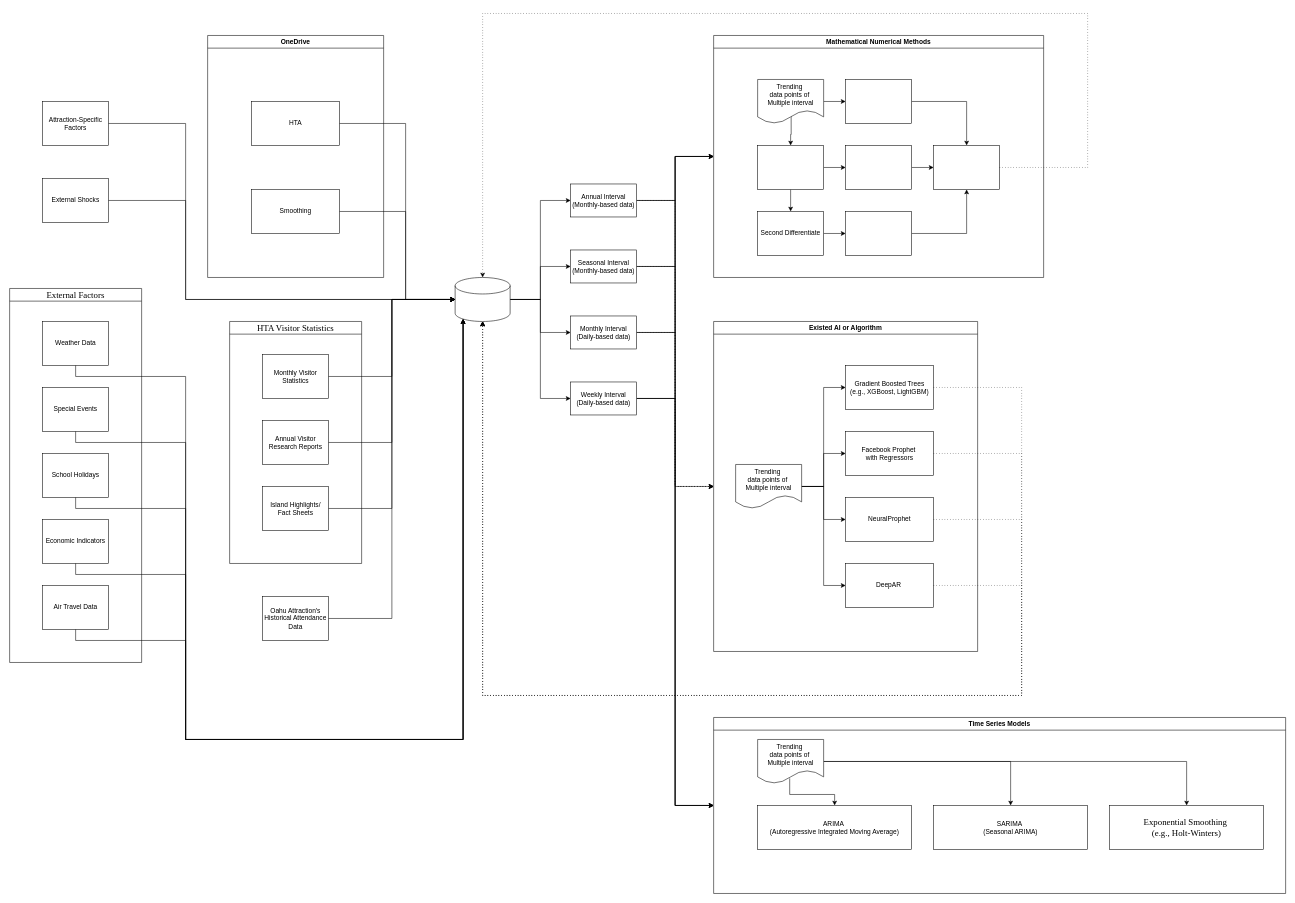
Image size: 1295x903. Some labels were removed from this diagram. The centre of each missing label's shape, as x and y in pixels:
"Find an average changing force" belongs at (878,233).
"Find an average changing speed" belongs at (878,167).
"First Differentiate" belongs at (790,167).
"pcc_forecast_db" belongs at (482,299).
"Query the last ticket sales number" belongs at (878,101).
"Richardson's Extrapolation" belongs at (966,167).
